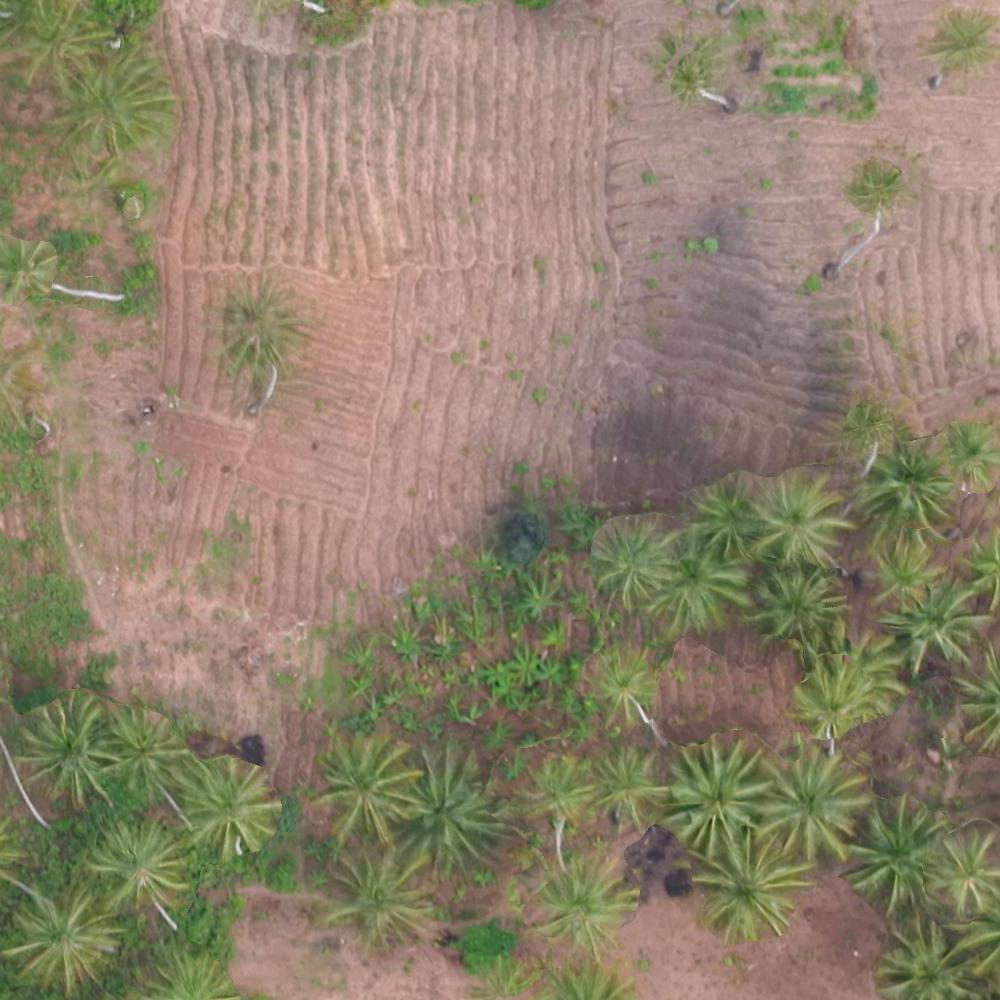Palm: (402, 749, 515, 872), (763, 743, 870, 861), (694, 833, 804, 945), (666, 740, 769, 850), (57, 57, 172, 154), (327, 848, 436, 948), (847, 799, 945, 909), (657, 528, 753, 635), (11, 886, 110, 989), (19, 700, 118, 802), (317, 741, 415, 842), (885, 581, 985, 675), (752, 469, 848, 565), (91, 822, 192, 912), (184, 757, 276, 852), (862, 436, 953, 528), (208, 281, 301, 371), (753, 568, 850, 648), (876, 919, 968, 1000), (536, 864, 627, 945), (592, 519, 677, 602), (105, 713, 187, 793), (687, 475, 762, 557), (865, 535, 942, 612), (928, 831, 1000, 910), (595, 748, 666, 828), (798, 659, 876, 731), (591, 645, 661, 725), (520, 749, 592, 825)
